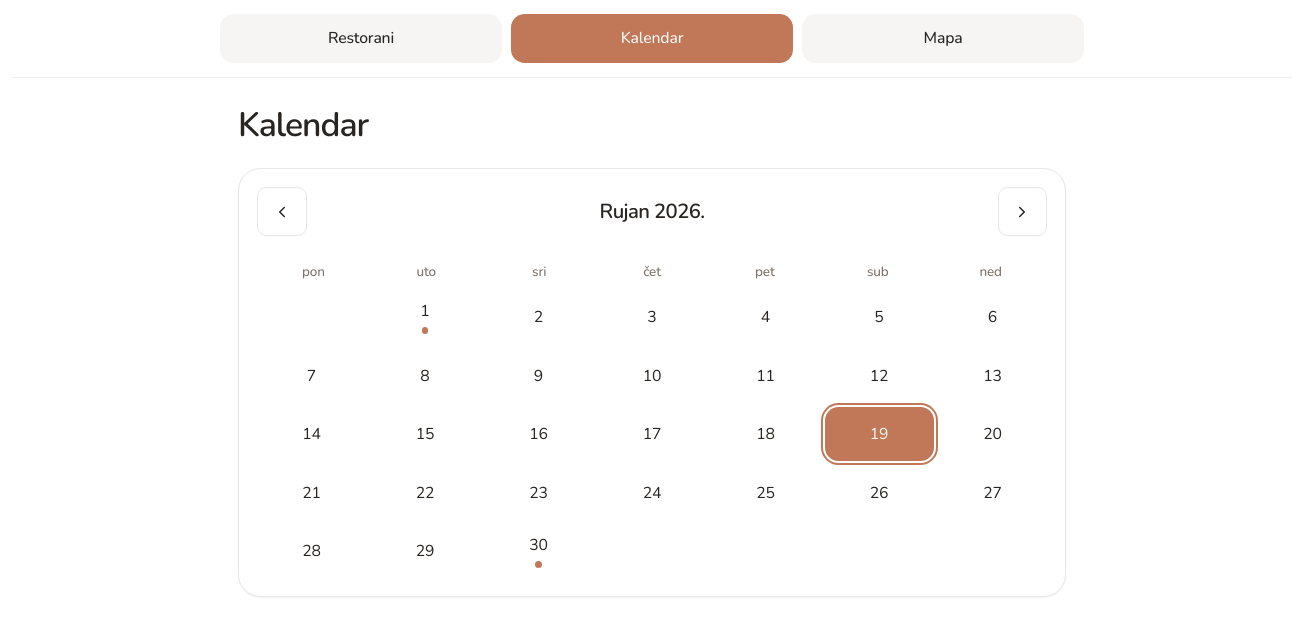
Test: Restaurant V1 Calendar › shows only the selected date and preserves first/last day markers
Click the button "1" at (425, 317), box [370,290,480,344]
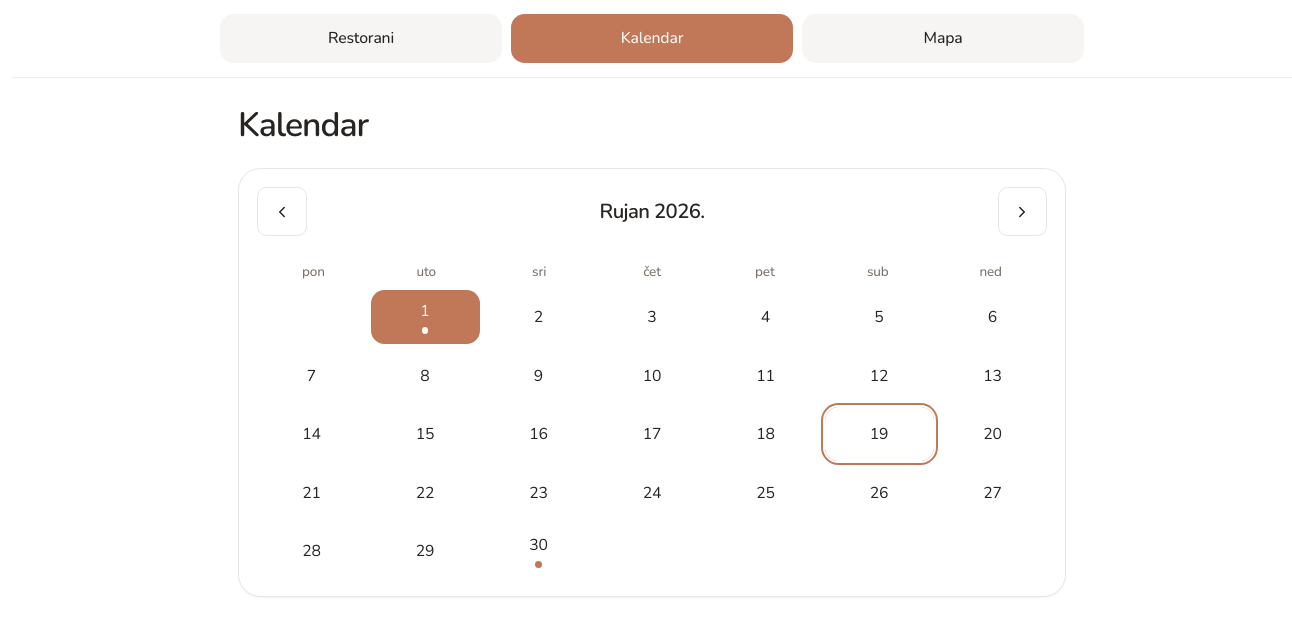
Click the button "30" at (538, 551), box [484,524,593,578]
(page scrolled)
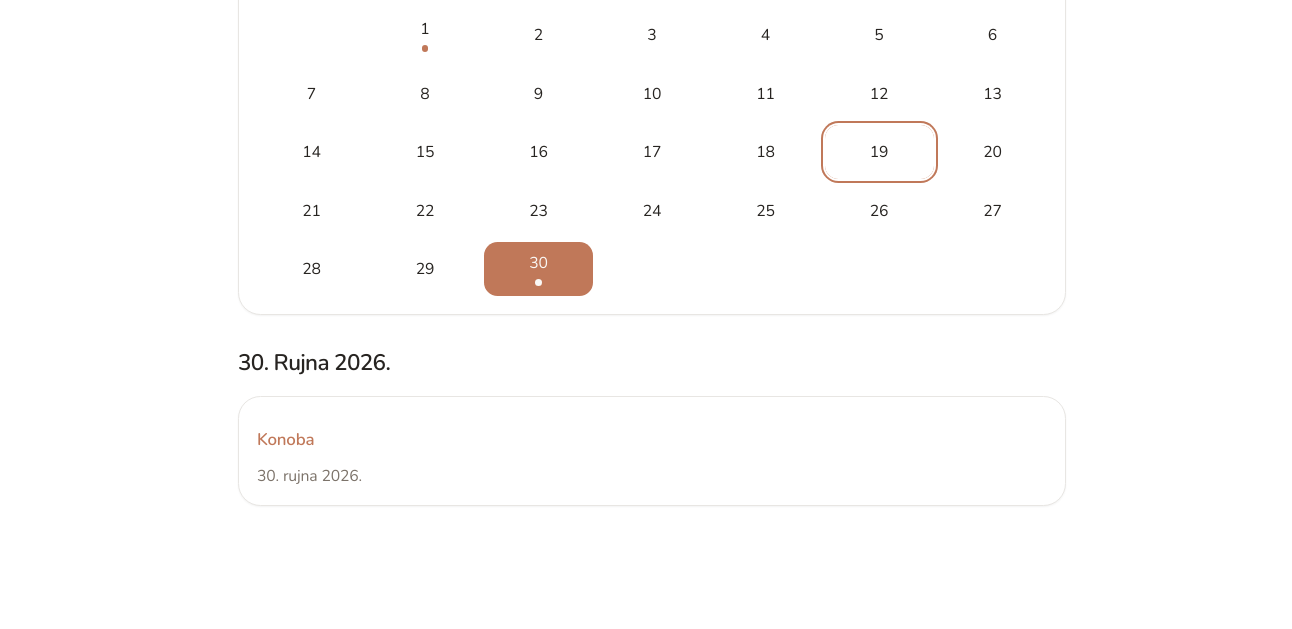
Now the heading "30. rujna 2026." is shown, box [238,347,390,378]
